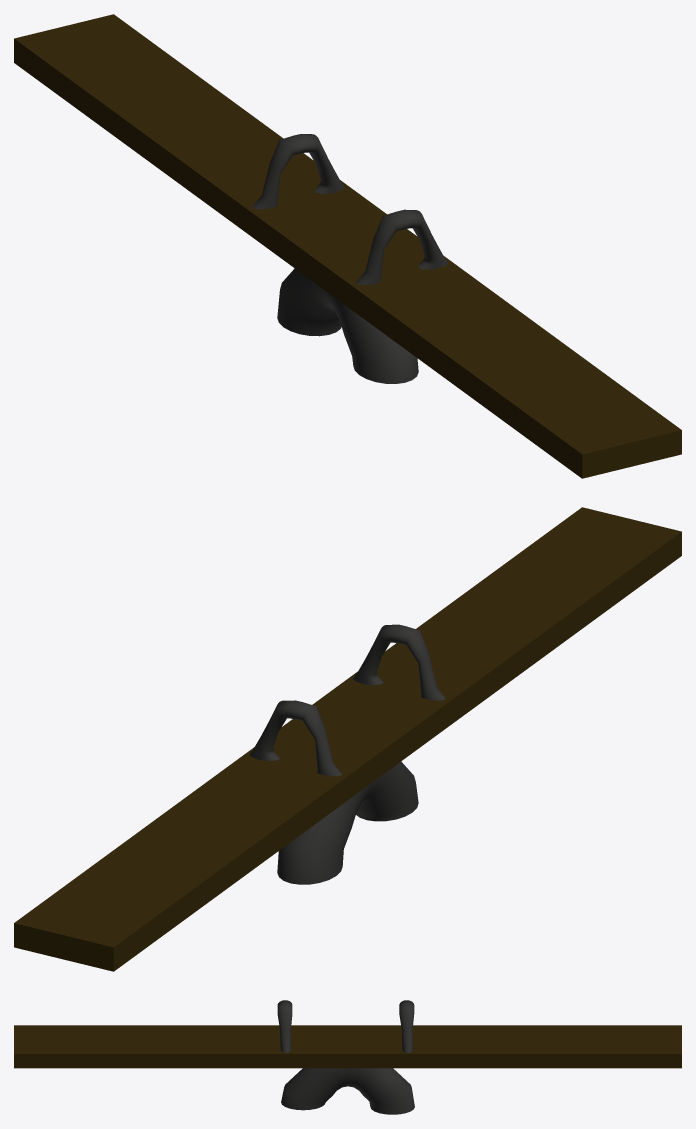
File: Seesaw.fbx
The picture shows the model from 3 angles, top to bottom: view 1: azimuth 30°, elevation 25°; view 2: azimuth 150°, elevation 25°; view 3: azimuth 270°, elevation 25°; orthographic projection. The views are drawn at different scales.
Parts seen in each view (by area): view 1: polySurface1, polySurface3; view 2: polySurface1, polySurface3; view 3: polySurface1, polySurface3.
Part boxes in pixels (bbox=[...]): polySurface1: bbox=[14, 14, 681, 478]; polySurface3: bbox=[277, 268, 418, 383]; polySurface1: bbox=[14, 507, 681, 971]; polySurface3: bbox=[277, 761, 418, 884]; polySurface1: bbox=[14, 1000, 681, 1068]; polySurface3: bbox=[281, 1068, 414, 1114].
Bounding box in the file's own units: 1.87 × 3.15 × 18.46.
